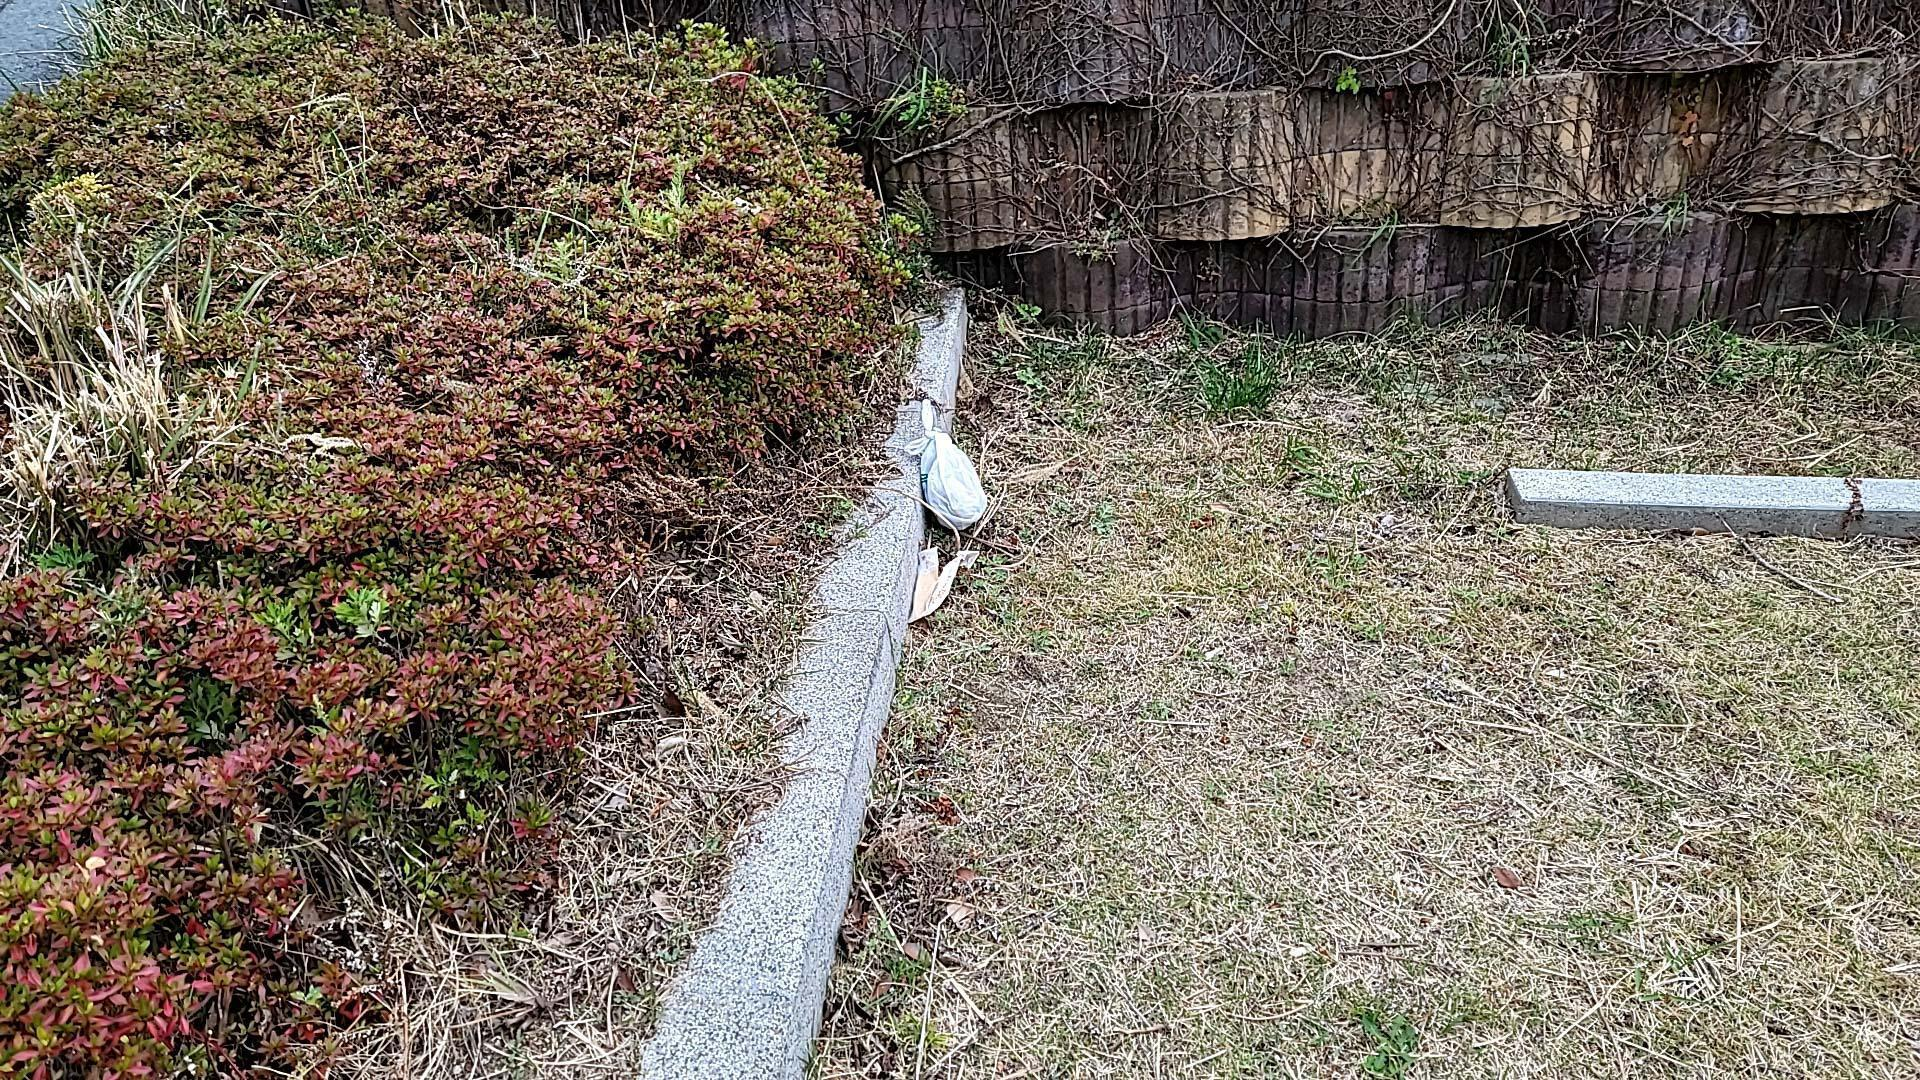white_bag: (898, 396, 996, 538)
